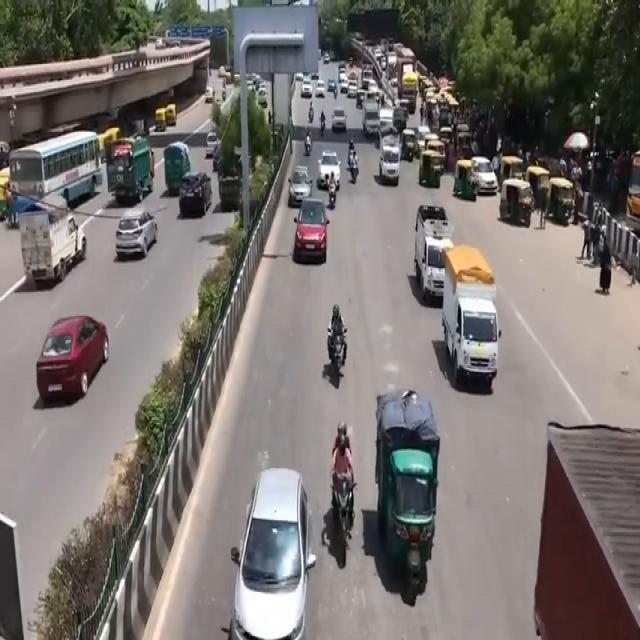BUS: (11, 130, 104, 207)
MOTORCYCLE: (333, 477, 355, 561), (328, 328, 348, 391), (327, 179, 338, 211), (348, 162, 358, 183)
TRUCK: (446, 256, 504, 390), (20, 208, 85, 286), (415, 210, 450, 303), (110, 140, 154, 200), (379, 126, 400, 181), (166, 144, 189, 188)
